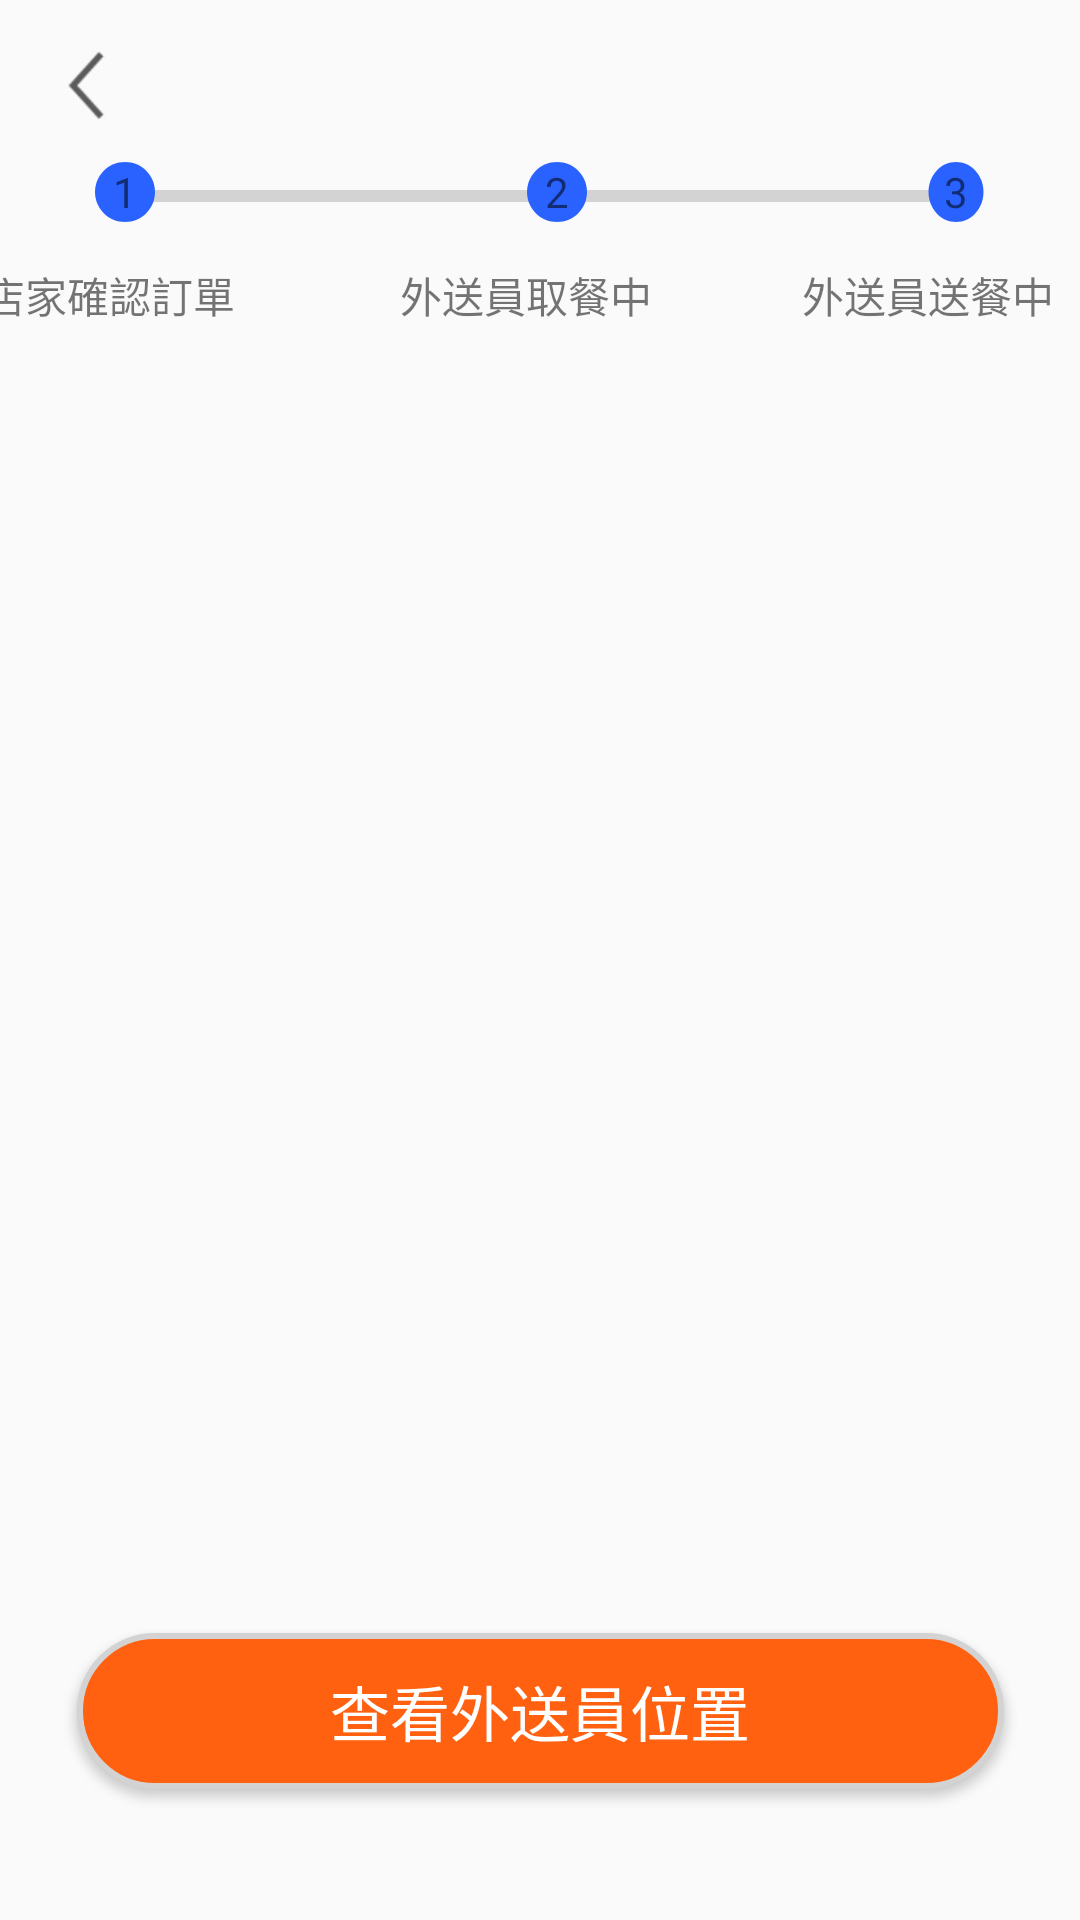

Locate icon controls on the screen. Image size 1080x1920, boxes as (x1, y1, x2, y2).
back: (68, 52, 104, 119)
